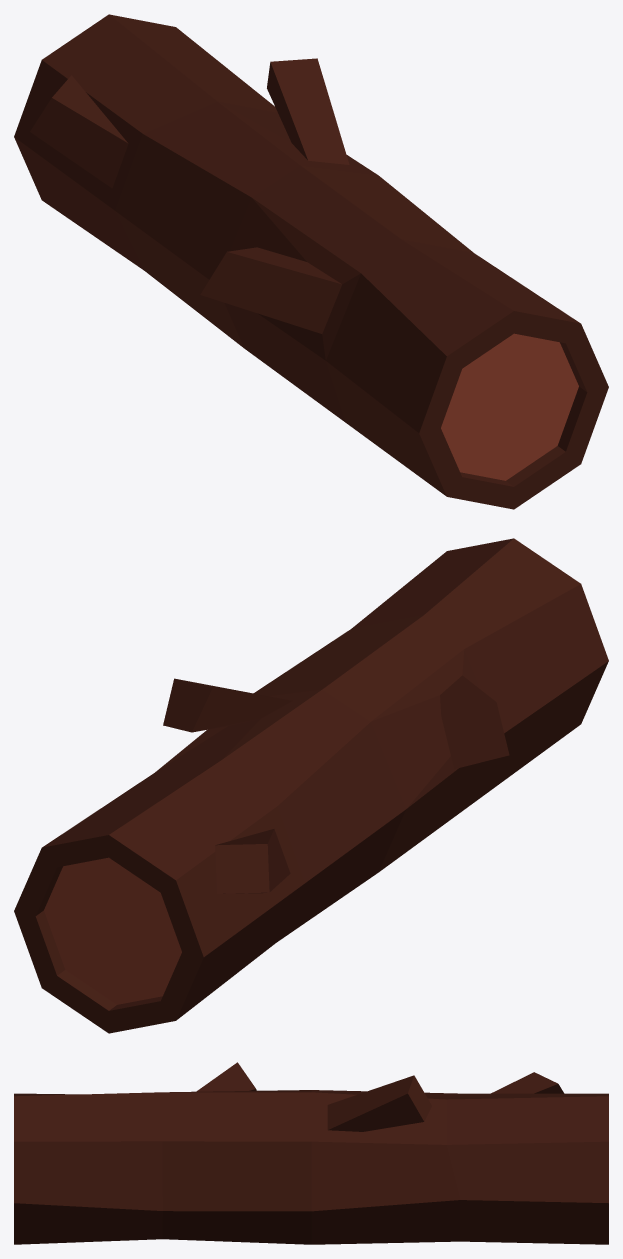
The model's file is log_6b.fbx.
The picture shows the model from 3 angles, top to bottom: view 1: azimuth 30°, elevation 25°; view 2: azimuth 150°, elevation 25°; view 3: azimuth 270°, elevation 25°; orthographic projection. The views are drawn at different scales.
Parts seen in each view (by area): view 1: log_6b; view 2: log_6b; view 3: log_6b.
Part boxes in pixels (x1=…): log_6b: x1=14, y1=14, x2=608, y2=509; log_6b: x1=14, y1=538, x2=608, y2=1033; log_6b: x1=14, y1=1062, x2=608, y2=1244.
Size of the model in its own units: 70.52 by 64.6 by 197.
